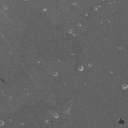corrosion: (76, 64, 84, 72), (120, 82, 128, 90), (53, 112, 60, 119), (52, 71, 59, 78), (42, 6, 48, 13), (1, 120, 7, 126), (67, 29, 73, 34), (77, 22, 82, 28), (93, 6, 98, 11)
